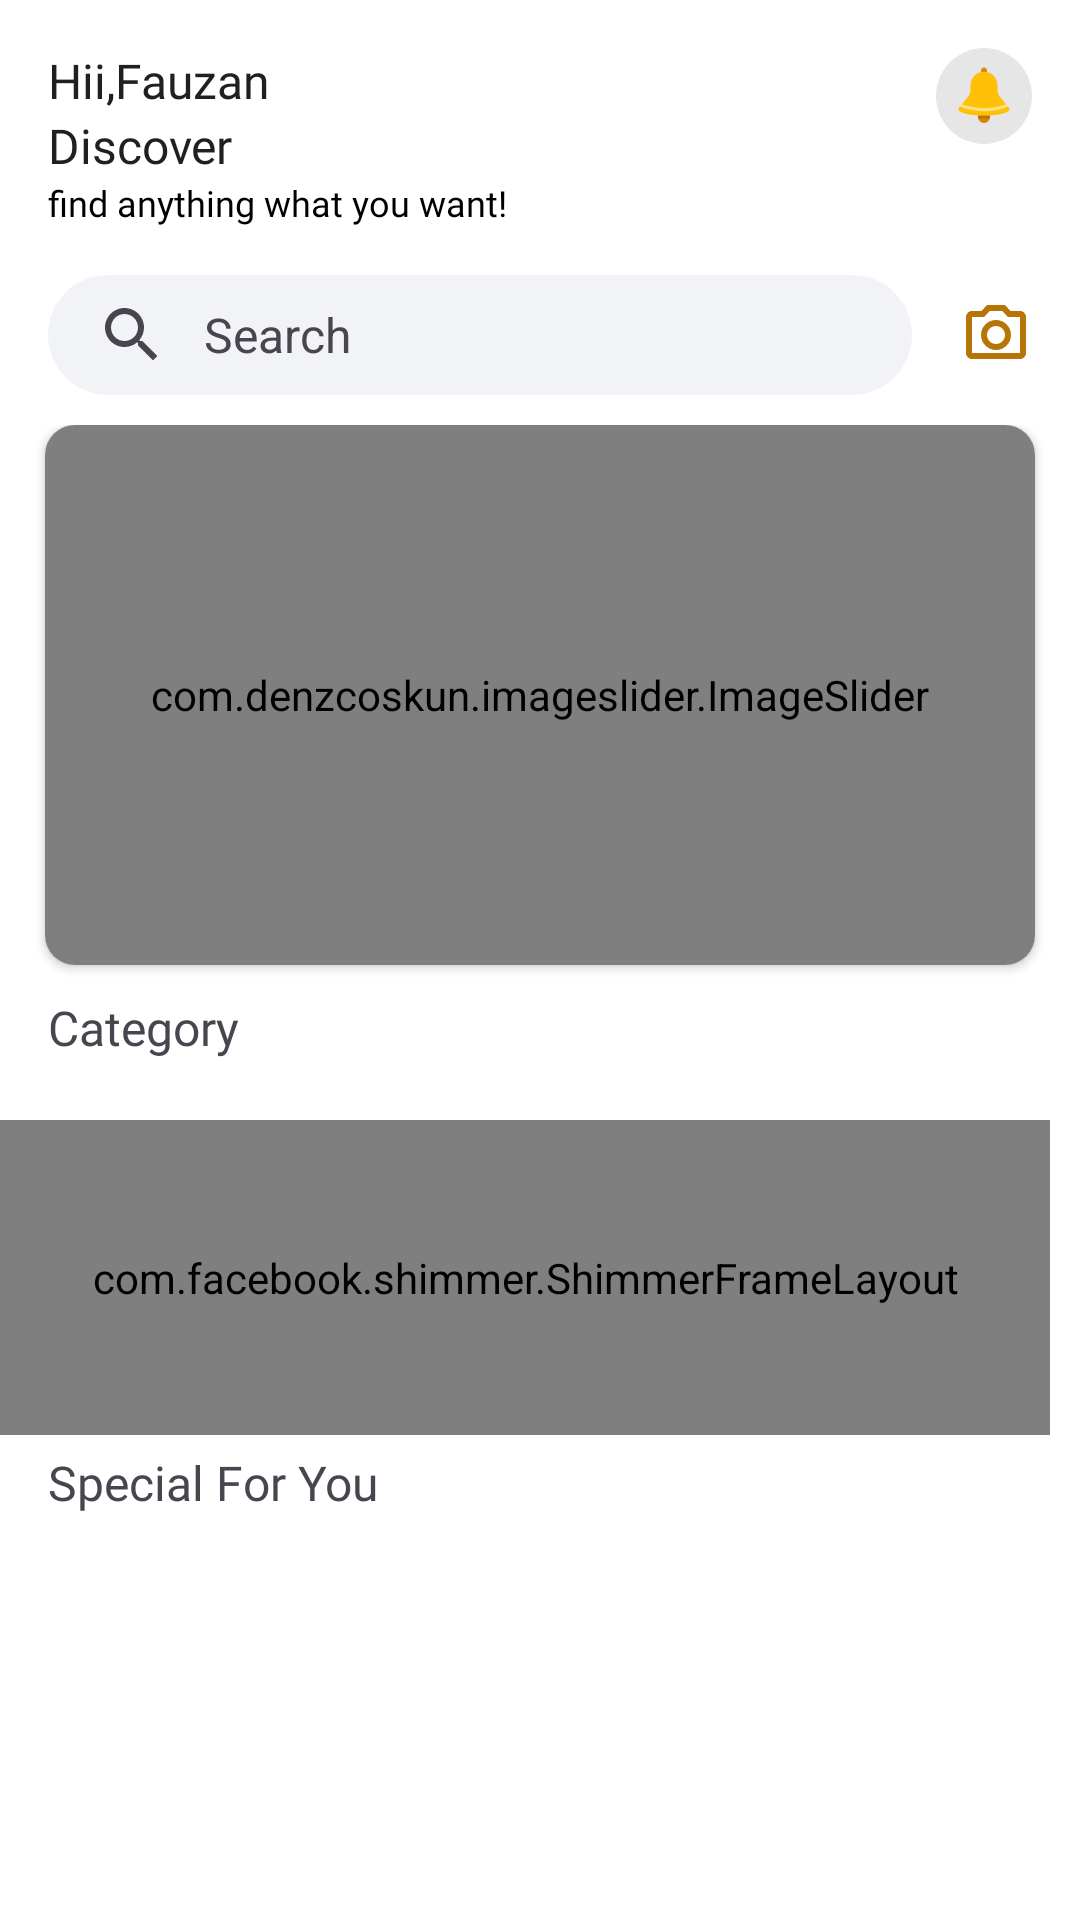

Screen size 1080*1920. Icon name, then its box in pixels as (x1, y1, x2, y2):
notification: (936, 48, 1032, 144)
photo camera: (966, 305, 1026, 359)
